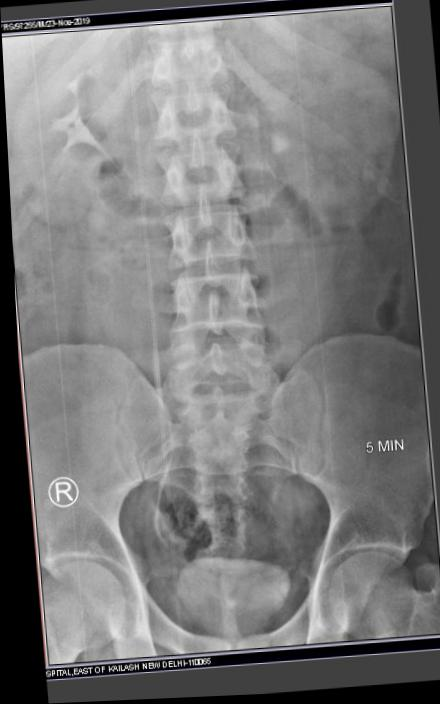bladder: (146, 556, 327, 680)
left kidney: (264, 0, 439, 248)
right kidney: (3, 33, 148, 236)
vertebrae: (160, 68, 262, 139)
